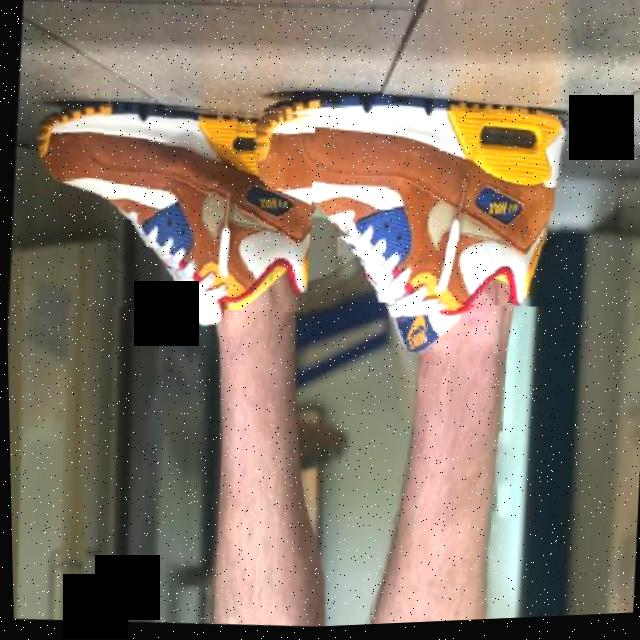shoe: (250, 74, 574, 323), (22, 92, 319, 324)
